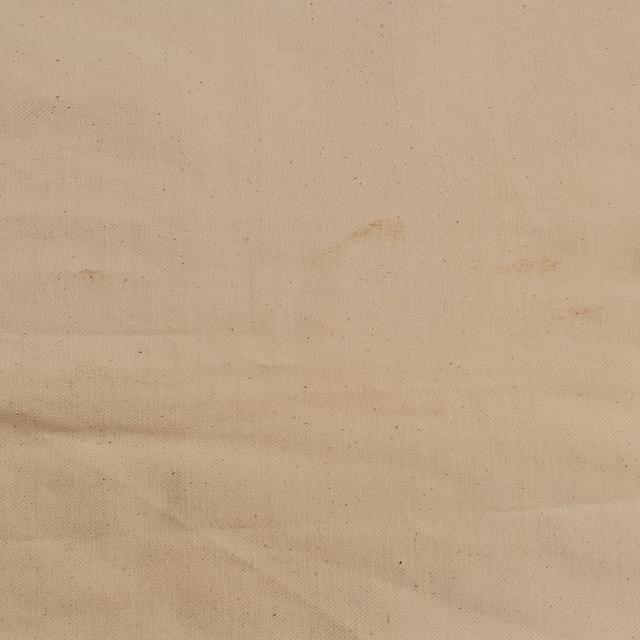taaaches: (319, 218, 431, 263), (490, 253, 582, 278), (56, 266, 122, 291), (562, 303, 612, 319)
